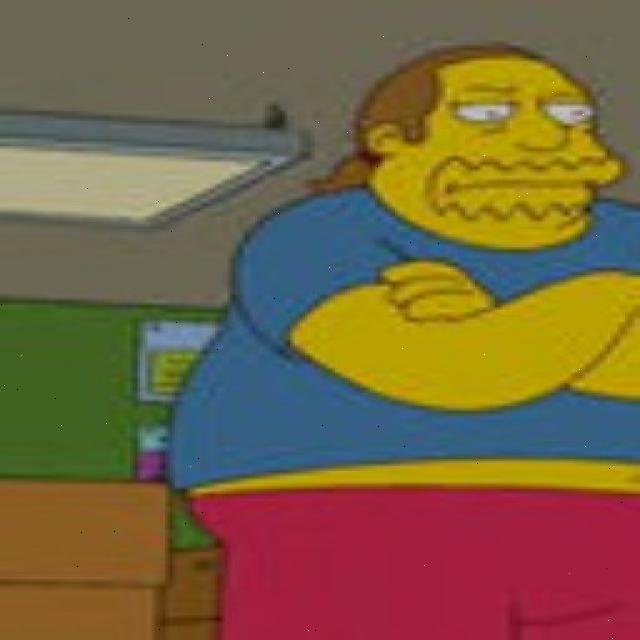Comic Book Guy: (334, 41, 636, 258)
